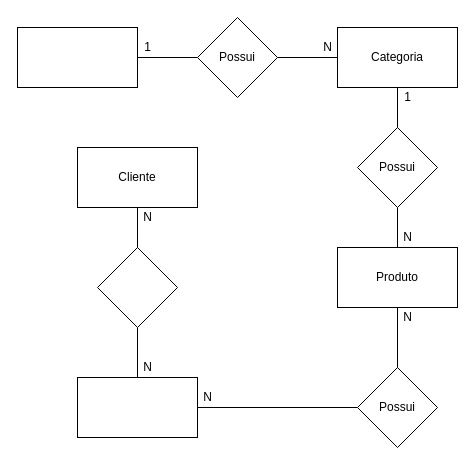
This 475x465 diagram has some shape labels left out. The centre of each missing label's shape, as x and y in pixels:
Efetua: point (137, 287)
Loja: point (77, 57)
Pedido: point (137, 407)
